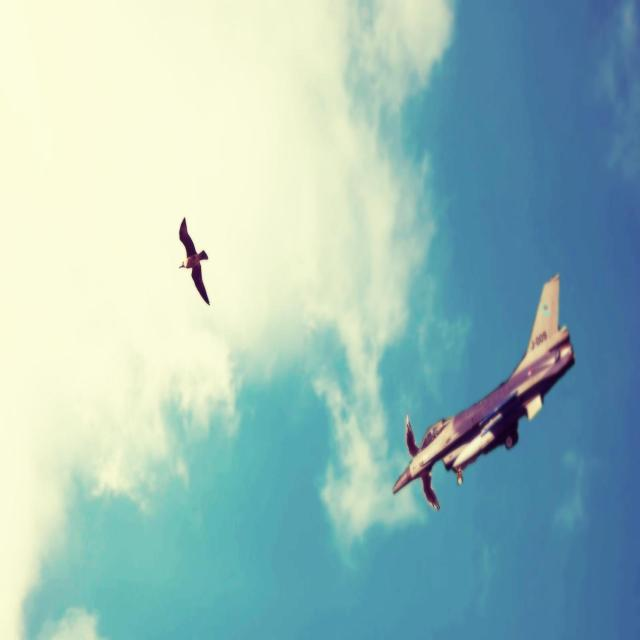airplane: (392, 272, 575, 511)
